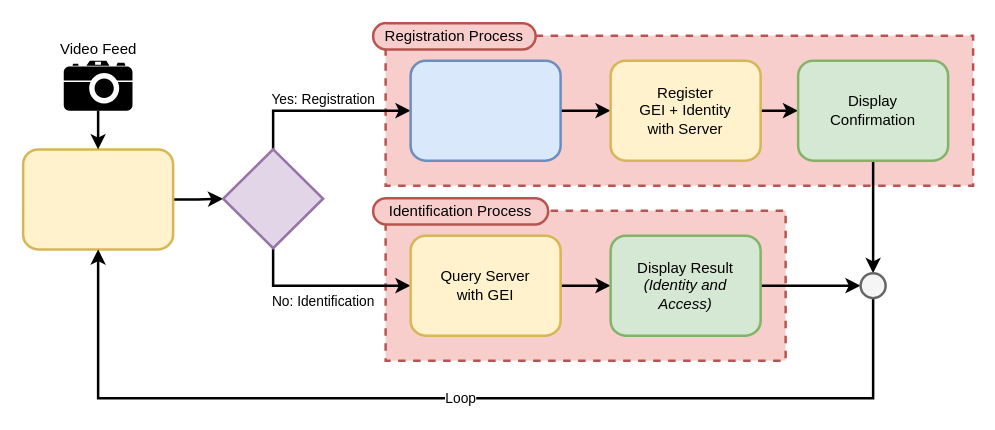
Image size: 995x430. Some labels were removed from this diagram. Here are the shapes that lost their labels. From the top down, the centre of each, then its label:
point (485, 110): Prompt User For Identity Name
point (97, 199): Gait Energy Image Creation
point (272, 198): Button Pressed?
